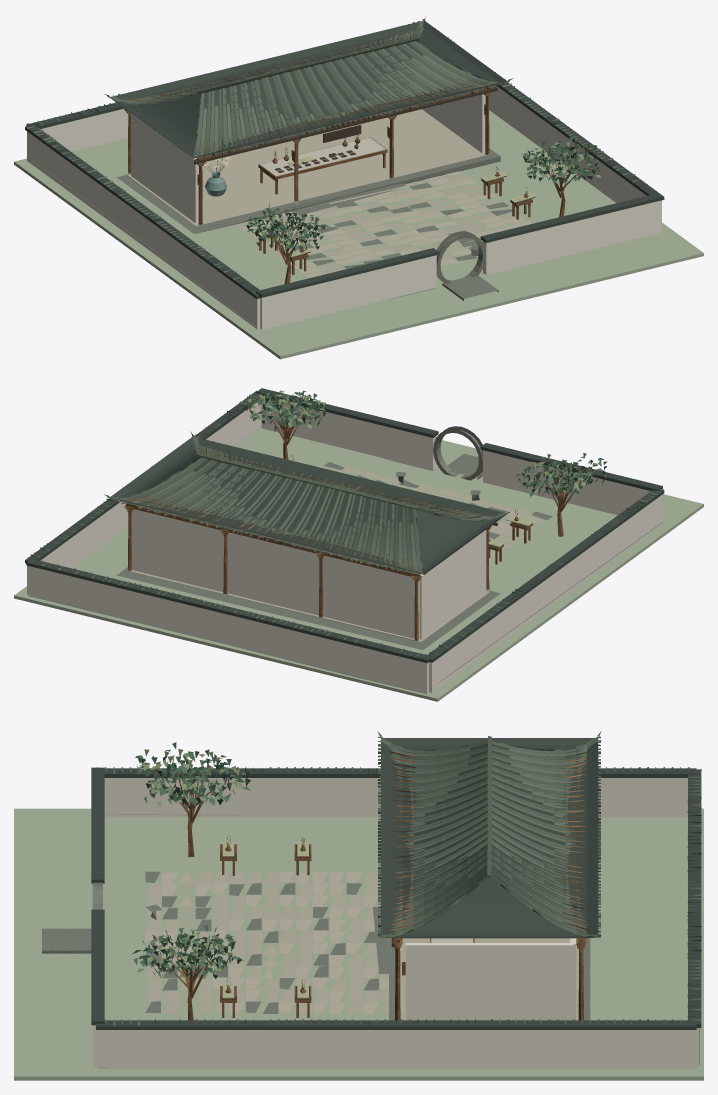
Rendered from public_models_places-low_qiushuangzhai.glb.
The picture shows the model from 3 angles, top to bottom: view 1: azimuth 30°, elevation 25°; view 2: azimuth 150°, elevation 25°; view 3: azimuth 270°, elevation 25°; orthographic projection. The views are drawn at different scales.
Visible parts, largest first — view 1: qiushuangzhai_earth, qiushuangzhai_plaster, qiushuangzhai_roof, qiushuangzhai_paving, qiushuangzhai_stone, qiushuangzhai_tile, qiushuangzhai_tiledark, qiushuangzhai_wood, qiushuangzhai_tilelight, qiushuangzhai_darkwood, qiushuangzhai_leaf, qiushuangzhai_lightleaf (+2 smaller); view 2: qiushuangzhai_plaster, qiushuangzhai_roof, qiushuangzhai_earth, qiushuangzhai_tile, qiushuangzhai_tiledark, qiushuangzhai_stone, qiushuangzhai_wood, qiushuangzhai_tilelight, qiushuangzhai_paving, qiushuangzhai_leaf, qiushuangzhai_lightleaf, qiushuangzhai_leafdark; view 3: qiushuangzhai_earth, qiushuangzhai_plaster, qiushuangzhai_roof, qiushuangzhai_paving, qiushuangzhai_tile, qiushuangzhai_tiledark, qiushuangzhai_stone, qiushuangzhai_wood, qiushuangzhai_tilelight, qiushuangzhai_leaf, qiushuangzhai_lightleaf, qiushuangzhai_leafdark (+1 smaller).
Boxes of the visible parts, x1,y1,x2,y2 form: qiushuangzhai_earth: (14,110,703,359); qiushuangzhai_plaster: (27,85,661,329); qiushuangzhai_roof: (25,20,664,299); qiushuangzhai_paving: (127,109,532,277); qiushuangzhai_stone: (30,148,512,327); qiushuangzhai_tile: (27,20,655,295); qiushuangzhai_tiledark: (104,17,513,159); qiushuangzhai_wood: (123,29,581,283); qiushuangzhai_tilelight: (120,30,495,157); qiushuangzhai_darkwood: (194,87,535,257); qiushuangzhai_leaf: (249,137,599,249); qiushuangzhai_lightleaf: (245,142,601,250); qiushuangzhai_plaster: (27,397,661,693); qiushuangzhai_roof: (25,388,664,663); qiushuangzhai_earth: (14,428,703,701); qiushuangzhai_tile: (27,393,663,659); qiushuangzhai_tiledark: (104,431,509,574); qiushuangzhai_stone: (28,426,662,694); qiushuangzhai_wood: (121,407,586,640); qiushuangzhai_tilelight: (121,446,495,573); qiushuangzhai_paving: (130,466,544,642); qiushuangzhai_leaf: (244,392,606,496); qiushuangzhai_lightleaf: (247,390,607,494); qiushuangzhai_leafdark: (238,390,605,495); qiushuangzhai_earth: (14,808,703,1080); qiushuangzhai_plaster: (93,778,698,1069); qiushuangzhai_roof: (91,738,701,1029); qiushuangzhai_paving: (145,871,578,1020); qiushuangzhai_tile: (97,738,701,1025); qiushuangzhai_tiledark: (377,731,601,937); qiushuangzhai_stone: (42,814,699,1067); qiushuangzhai_wood: (155,750,590,1020); qiushuangzhai_tilelight: (380,746,590,930); qiushuangzhai_leaf: (133,749,251,977); qiushuangzhai_lightleaf: (134,749,242,977); qiushuangzhai_leafdark: (132,742,250,978).
Bounding box in the file's own units: 34 × 8.44 × 37.
19 materials, 2 textured.
